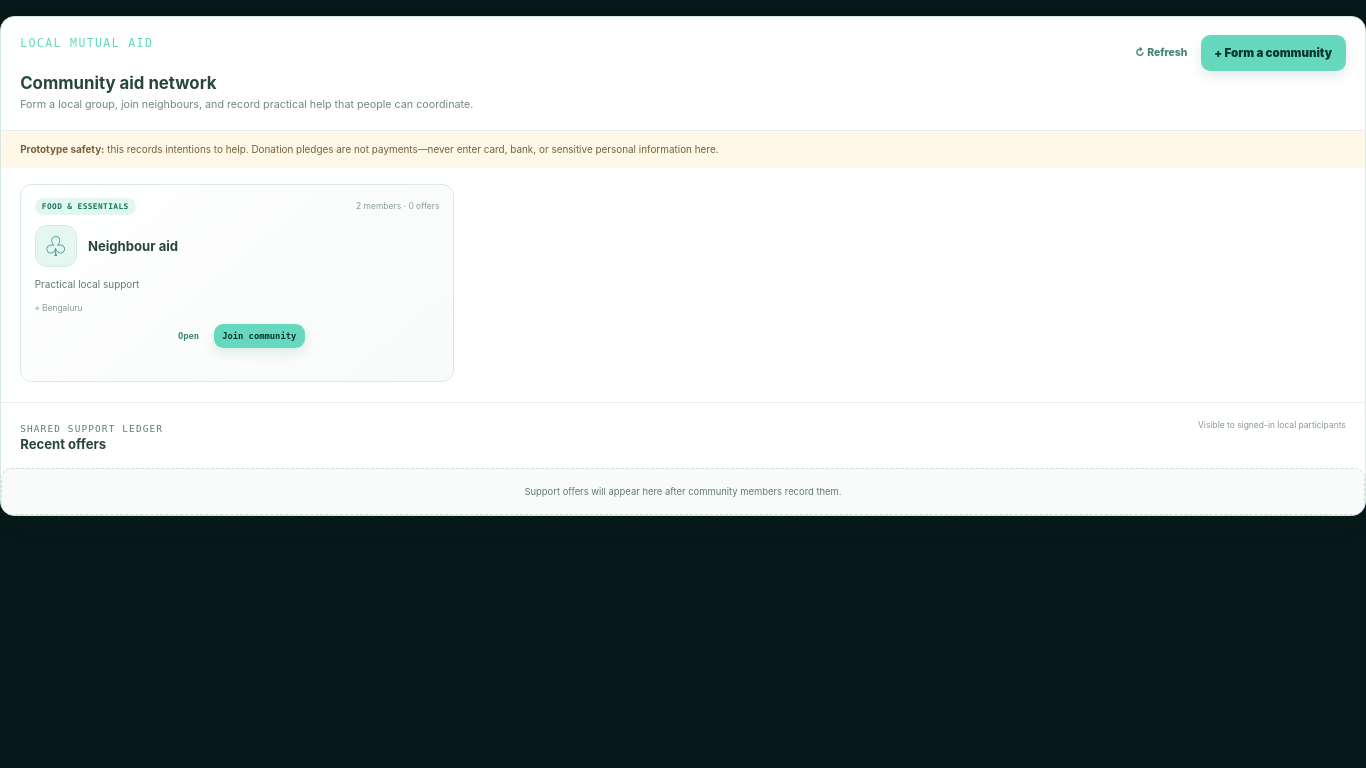
Scenario: does not load chat for nonmembers and retains the join option
What coordinates should you click on to do the following:
click the button "Open"
I would click on:
 (188, 336)
Its box is [170,324,207,348].
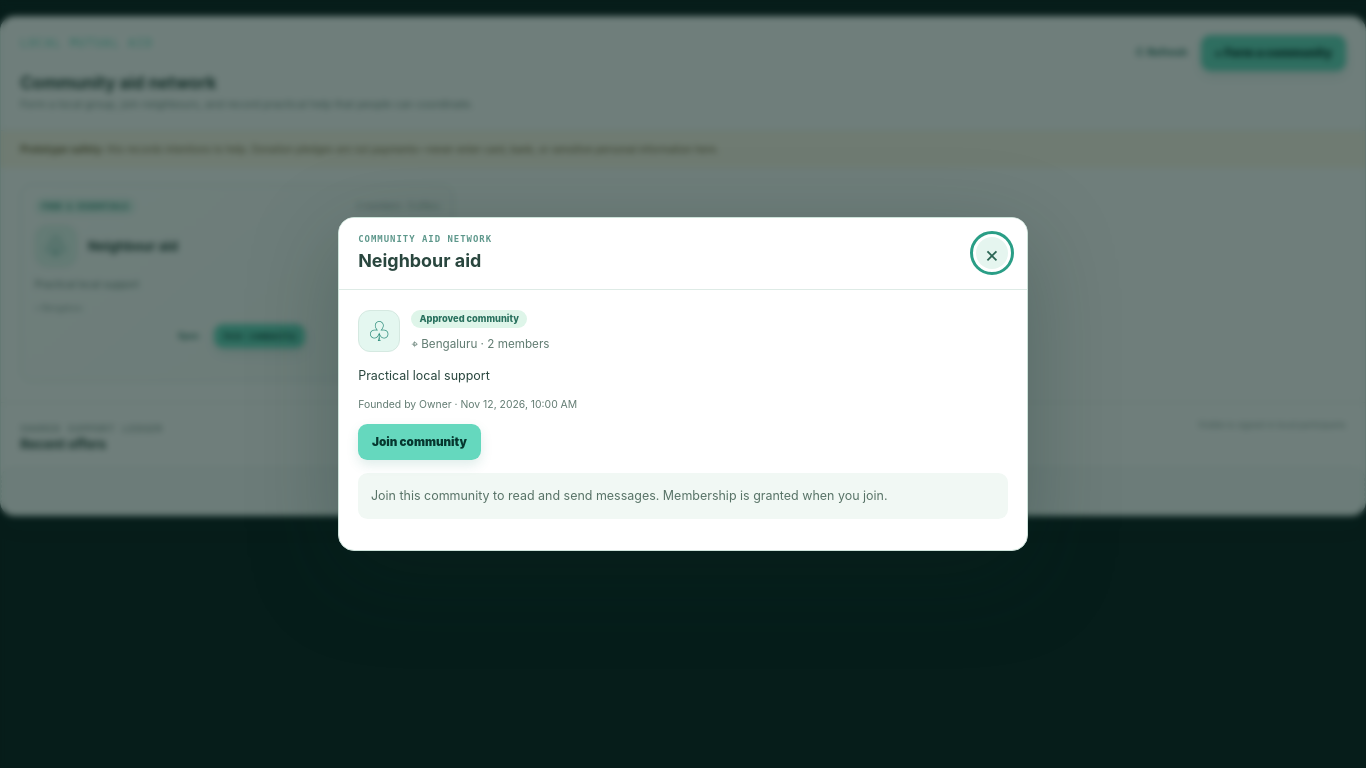
Expected: the button "Join community" is shown, [358,424,481,460]
